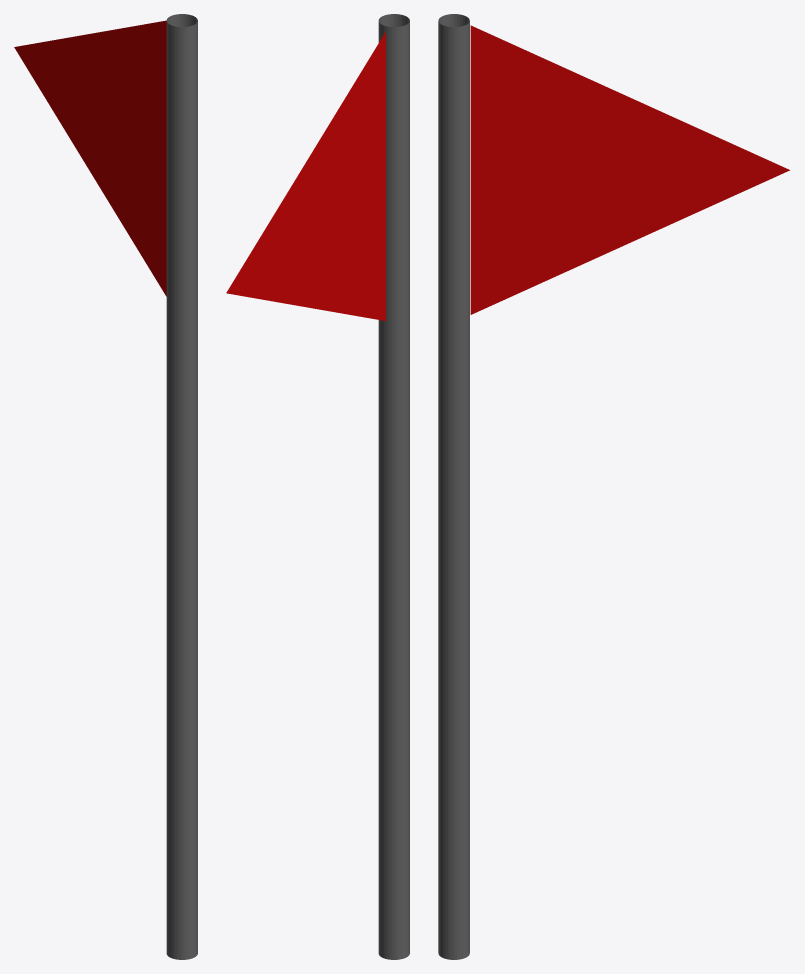
Rendered from flag.glb.
The picture shows the model from 3 angles, left to right: view 1: azimuth 30°, elevation 25°; view 2: azimuth 150°, elevation 25°; view 3: azimuth 270°, elevation 25°; orthographic projection.
Visible parts, largest first — view 1: Circle; view 2: Circle; view 3: Circle.
Boxes of the visible parts, bbox=[...] form: Circle: bbox=[14, 14, 197, 959]; Circle: bbox=[226, 14, 409, 959]; Circle: bbox=[438, 14, 789, 959].
Size of the model in its own units: 0.1453 by 4.77 by 1.63.
